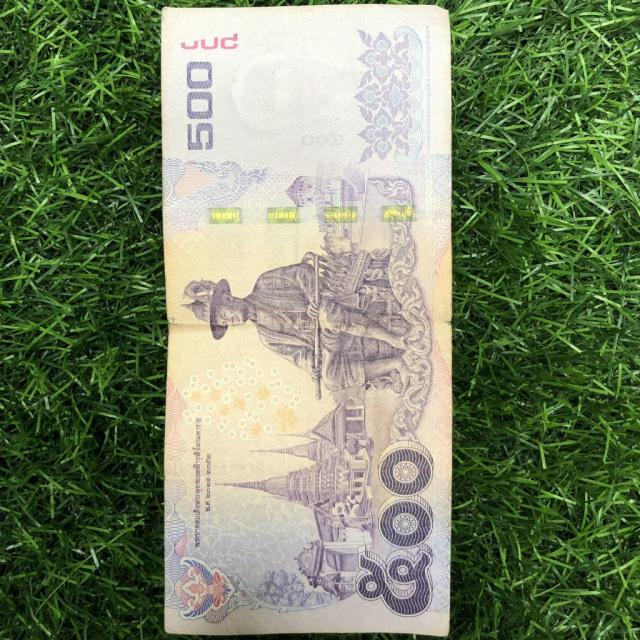THAI500: (162, 6, 451, 636)
